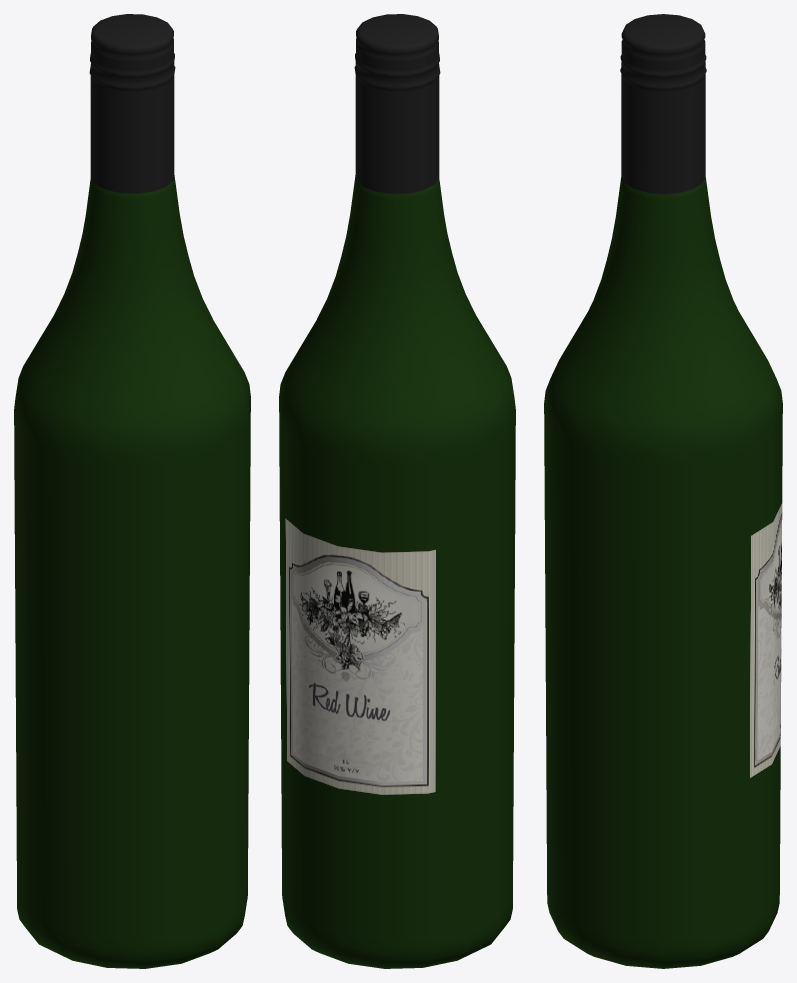
File: Wine 2.FBX
3 renders of one model, left to right at view 1: azimuth 30°, elevation 25°; view 2: azimuth 150°, elevation 25°; view 3: azimuth 270°, elevation 25°, orthographic.
Visible parts, largest first — view 1: Wine 2; view 2: Wine 2; view 3: Wine 2.
Part boxes in pixels (x1=…): Wine 2: x1=14, y1=14, x2=250, y2=968; Wine 2: x1=279, y1=14, x2=515, y2=968; Wine 2: x1=544, y1=14, x2=782, y2=968.
Size of the model in its own units: 7.97 by 33.11 by 7.97.
1 material, 1 textured.
